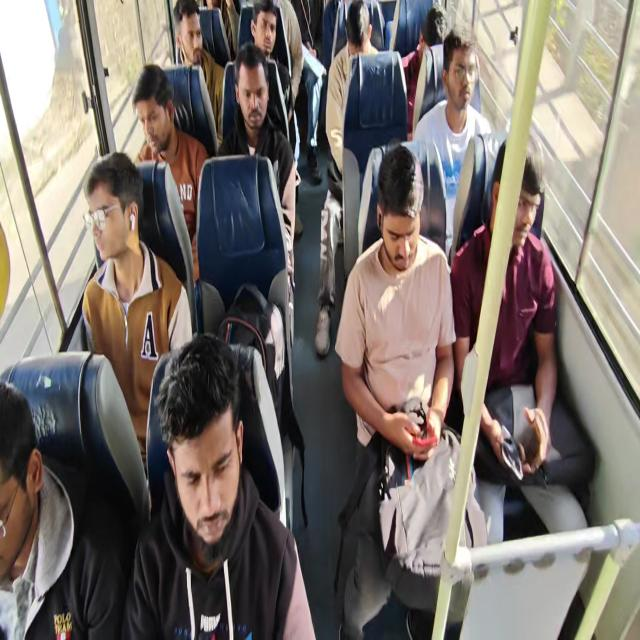person: (144, 321, 280, 596), (0, 369, 88, 573), (476, 137, 537, 272), (124, 65, 186, 176), (82, 152, 140, 266), (376, 158, 424, 271), (230, 51, 278, 163), (165, 0, 222, 90), (456, 18, 490, 114), (344, 3, 376, 80), (249, 2, 280, 74), (421, 0, 449, 58)
